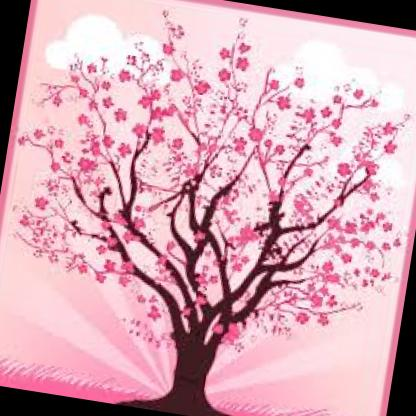trunk_straight: (166, 348, 216, 396)
